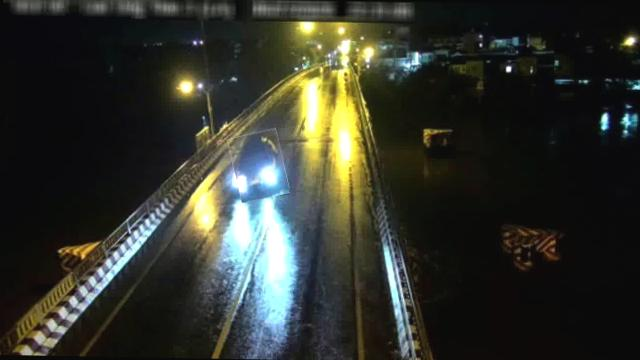Car: (230, 130, 287, 200)
